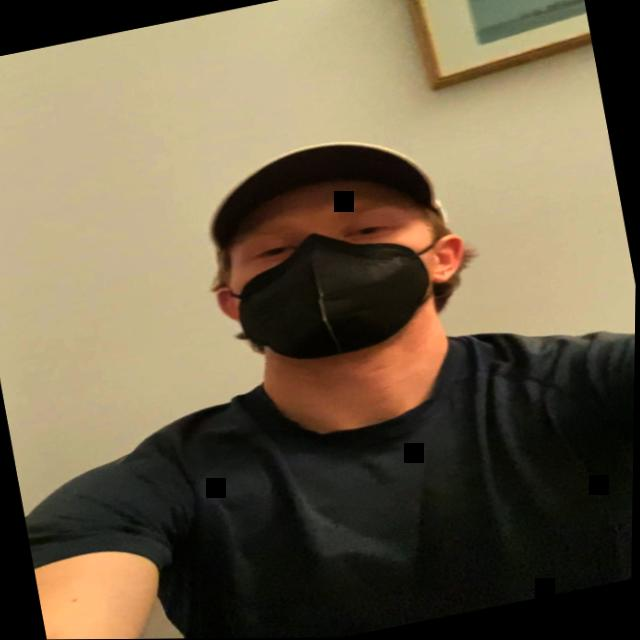Mask: (208, 159, 455, 376)
